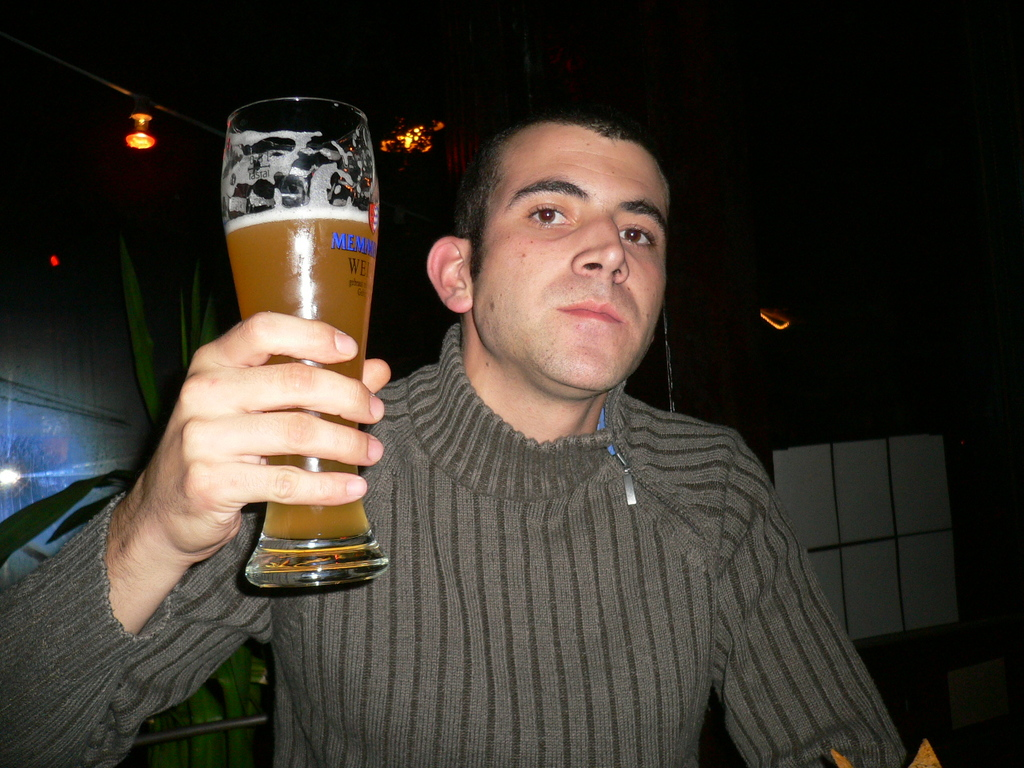Beer: (215, 93, 391, 606)
